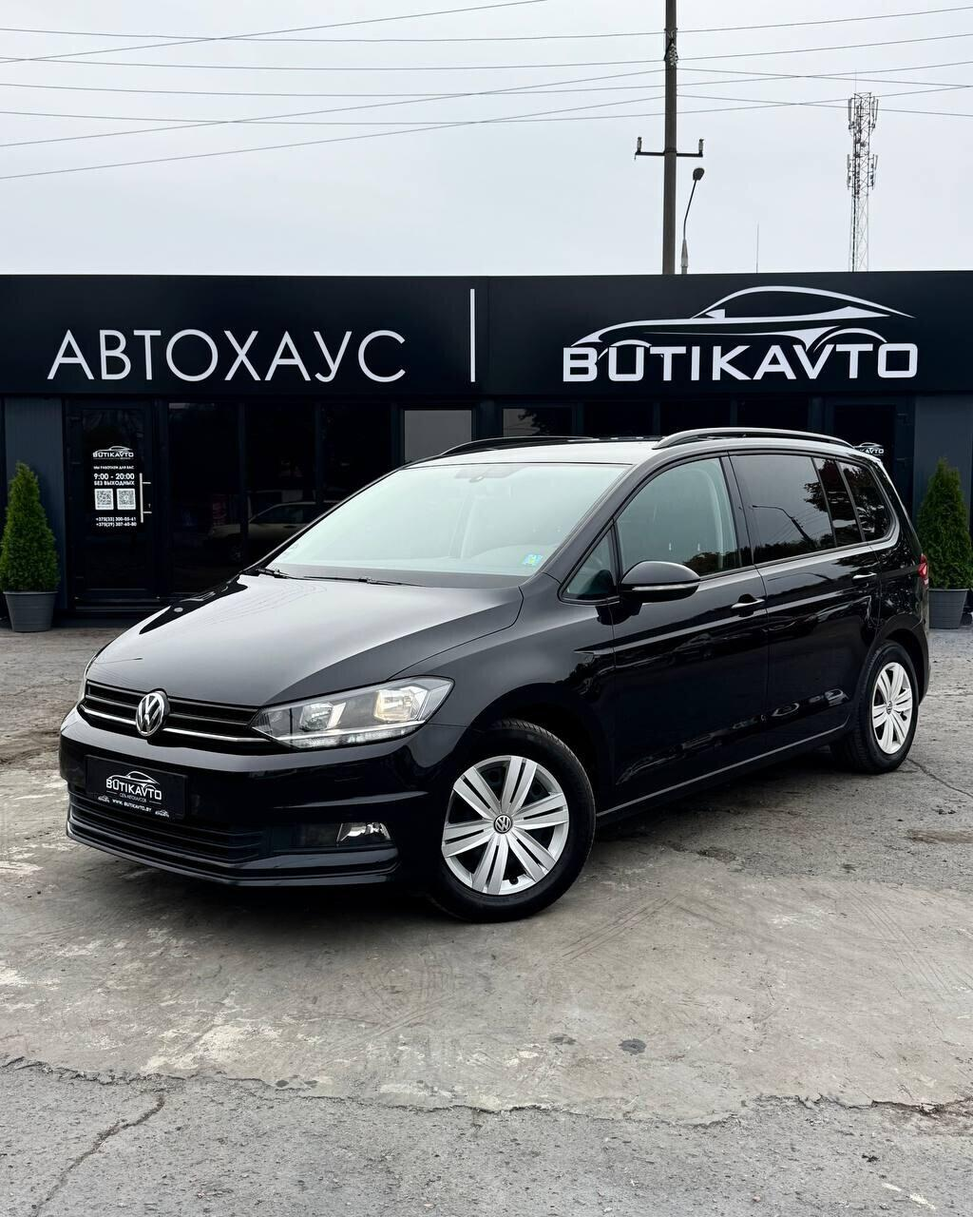Touran_2015: (49, 425, 931, 917)
